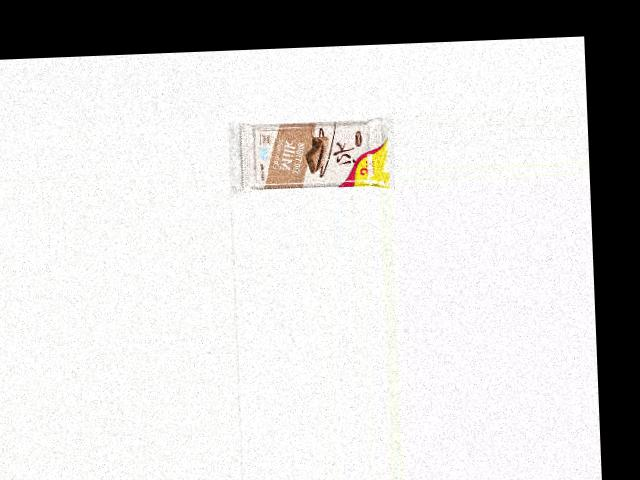chocolate: (243, 114, 396, 194)
